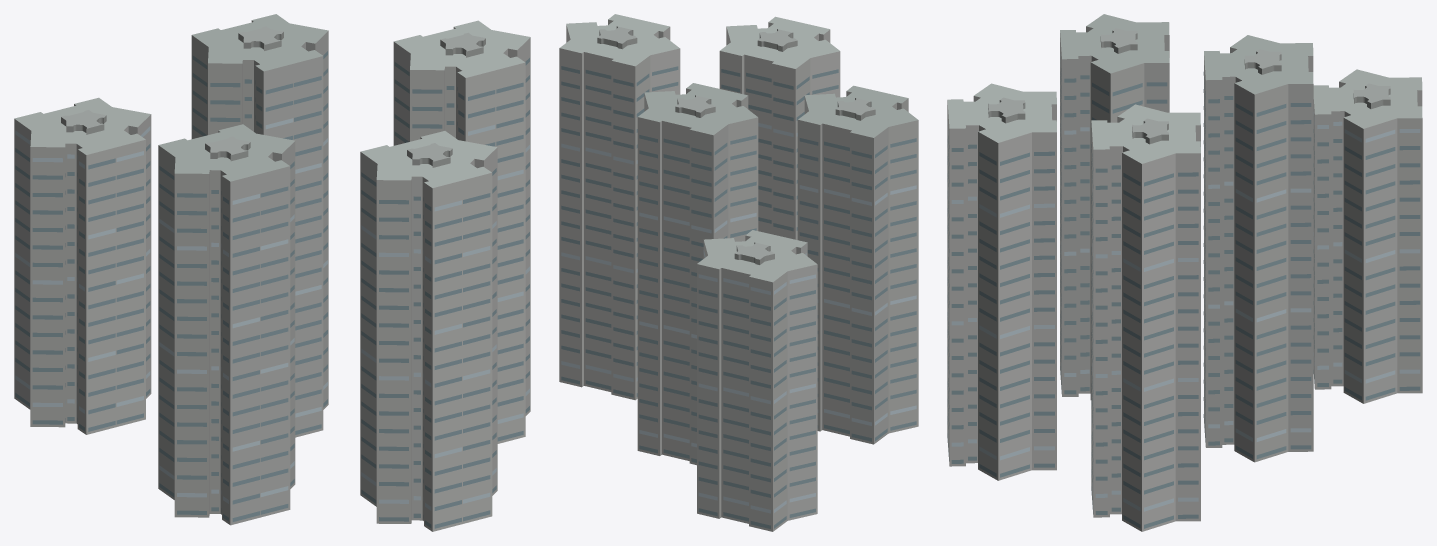
File: apt-a10024691.glb
3 renders of one model, left to right at view 1: azimuth 30°, elevation 25°; view 2: azimuth 150°, elevation 25°; view 3: azimuth 270°, elevation 25°, orthographic. The views are drawn at different scales.
Visible parts, largest first — view 1: apt-a10024691; view 2: apt-a10024691; view 3: apt-a10024691.
Boxes of the visible parts, box(x1,y1,x2,y2) form: apt-a10024691: box(14, 14, 530, 531); apt-a10024691: box(559, 14, 918, 531); apt-a10024691: box(947, 14, 1422, 531).
Size of the model in its own units: 160 by 149 by 172.
